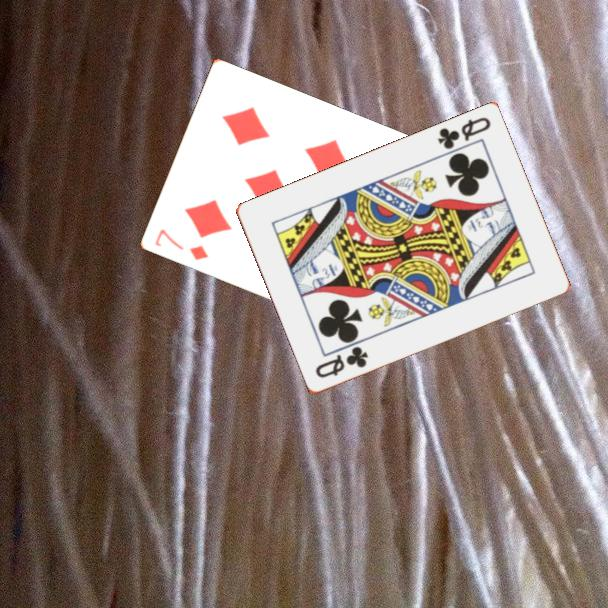c12: (434, 114, 494, 153), (312, 343, 371, 381)
d07: (151, 225, 211, 263)
